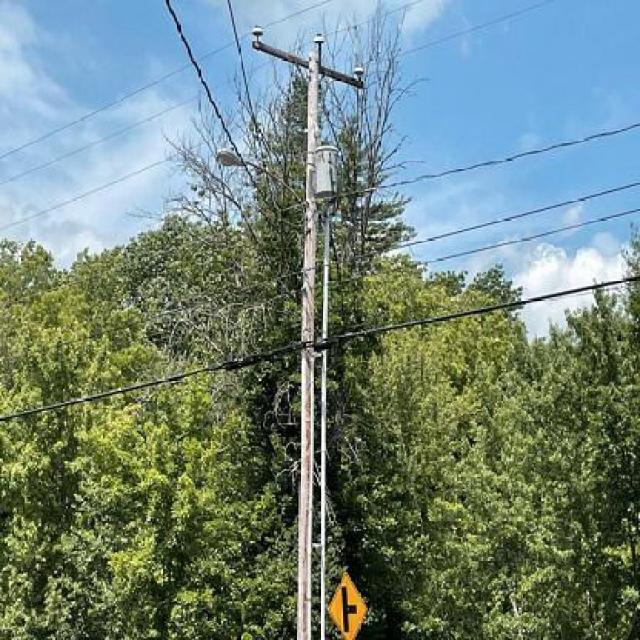pole: (240, 17, 357, 620)
